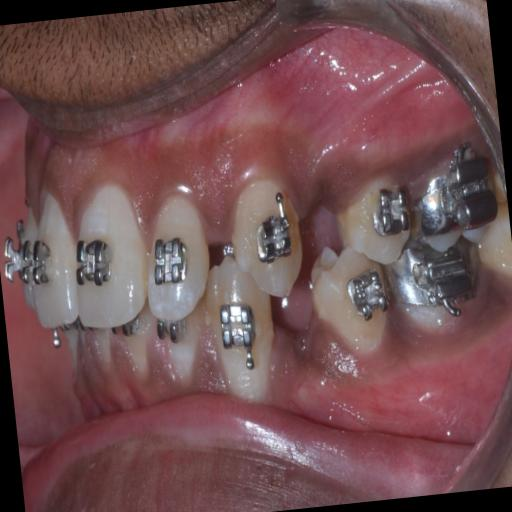correct_brace: (334, 176, 420, 268), (248, 190, 296, 268), (72, 228, 117, 291), (150, 232, 192, 292)
incorrect_brace: (141, 182, 216, 322), (368, 185, 412, 240)
